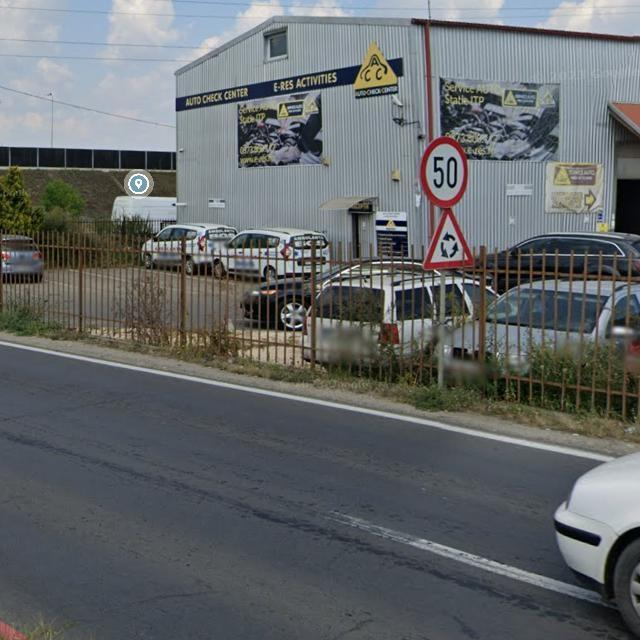forb_speed_over_50: (419, 137, 469, 209)
